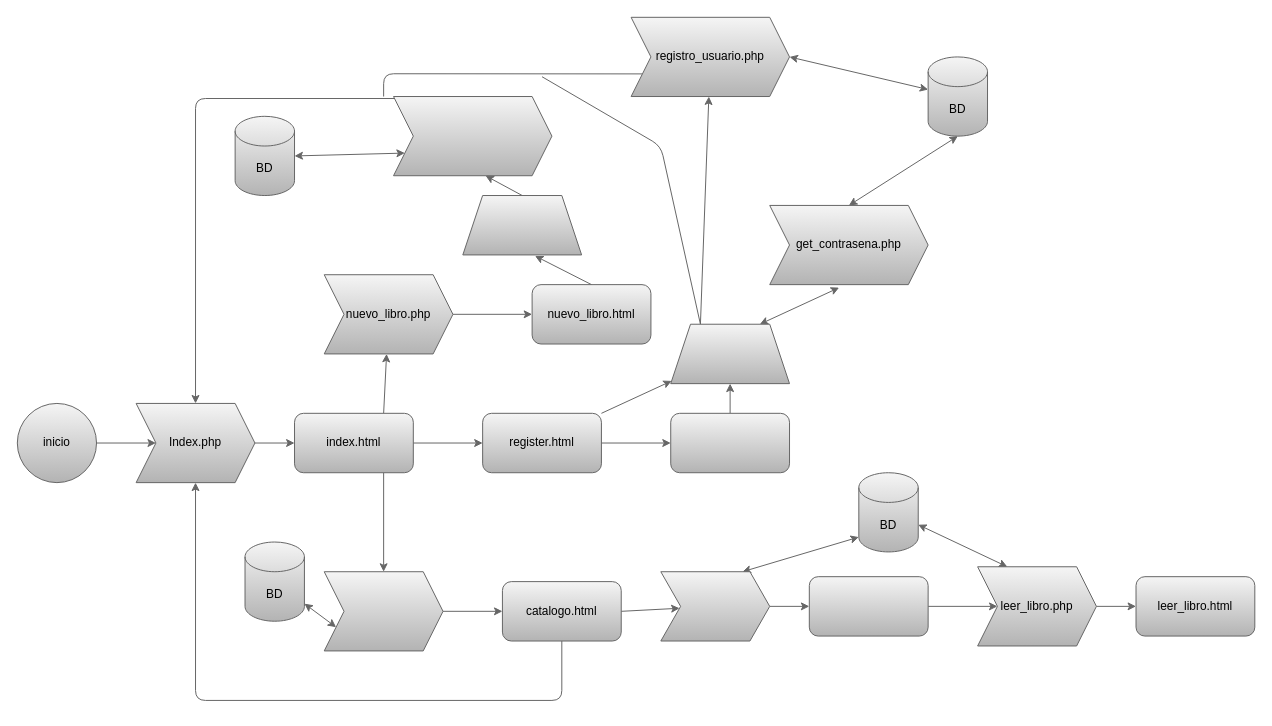
This 1272x726 diagram has some shape labels left out. The shapes that lost their labels are listed below. From the top down, each one's centre as x and y in pixels, then its label:
At point 472,136: "publicar_libro.php".
At point 522,225: "nuevo_libro.js".
At point 730,353: "inicio_sesion.js".
At point 730,442: "inicio_sesion.html".
At point 383,611: "catalogo.php".
At point 715,606: "libro.php".
At point 868,606: "pagina_libro.html".
